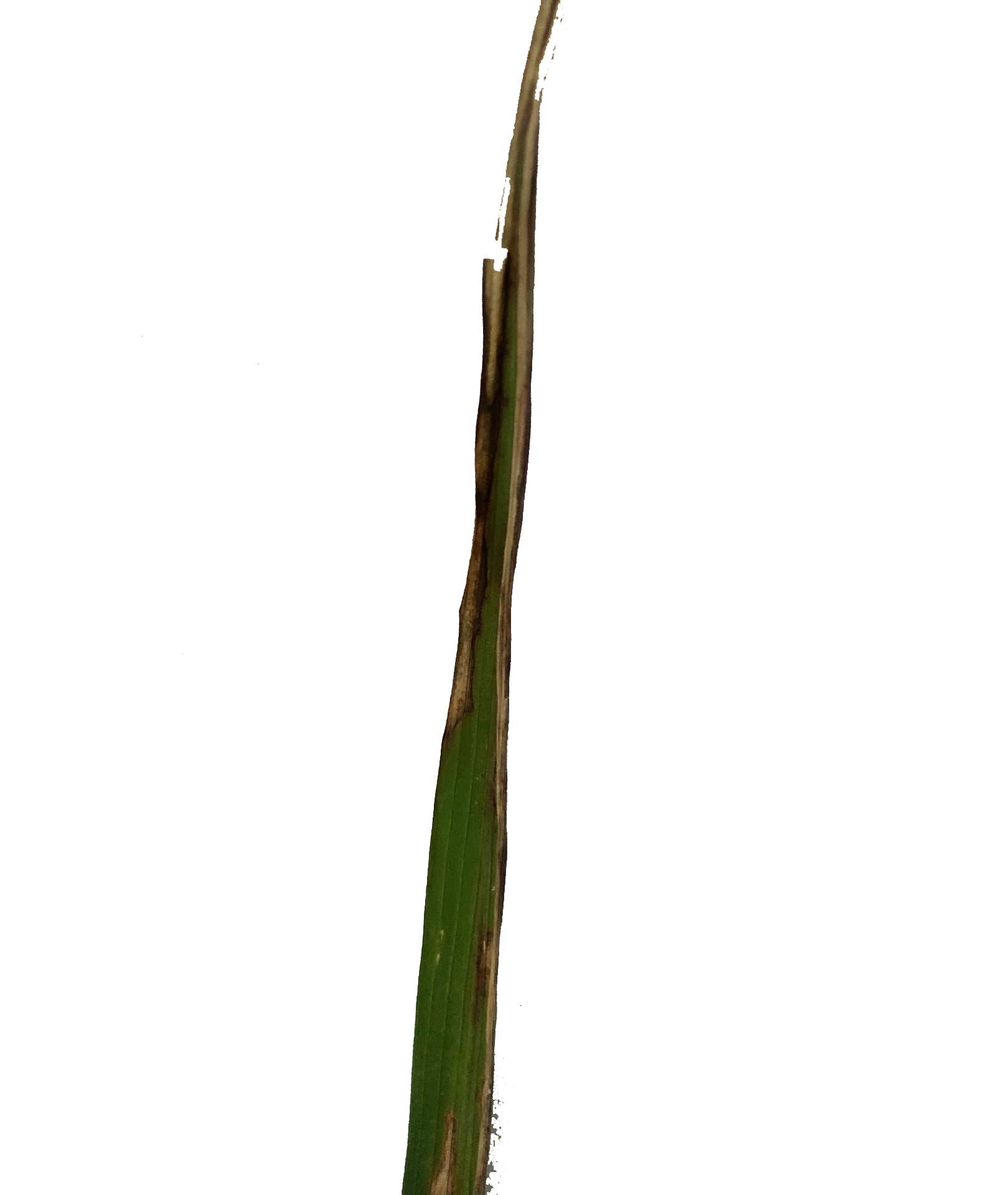Blight: (476, 261, 535, 728)
